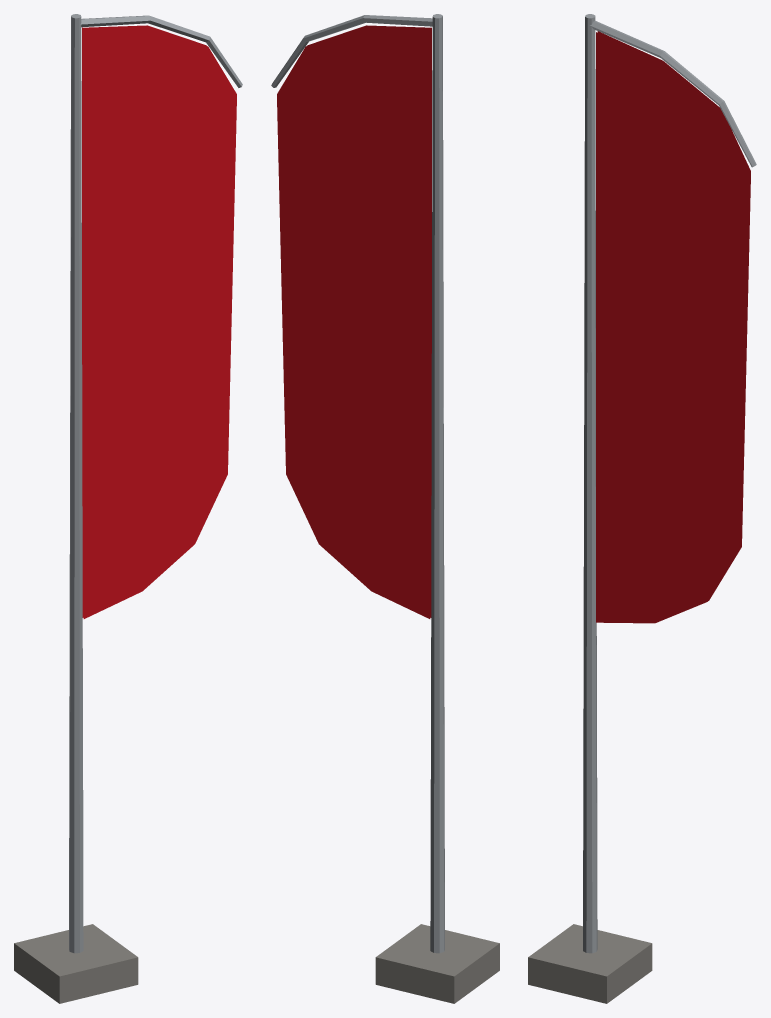
The model's file is bannerRed.glb.
The picture shows the model from 3 angles, left to right: view 1: azimuth 30°, elevation 25°; view 2: azimuth 150°, elevation 25°; view 3: azimuth 330°, elevation 25°; orthographic projection.
Parts seen in each view (by area): view 1: banner; view 2: banner; view 3: banner.
Boxes of the visible parts, <box> form: banner: <box>14,14,242,1003</box>; banner: <box>271,14,499,1003</box>; banner: <box>528,14,756,1003</box>.
Bounding box in the file's own units: 1.57 × 7 × 0.6.
